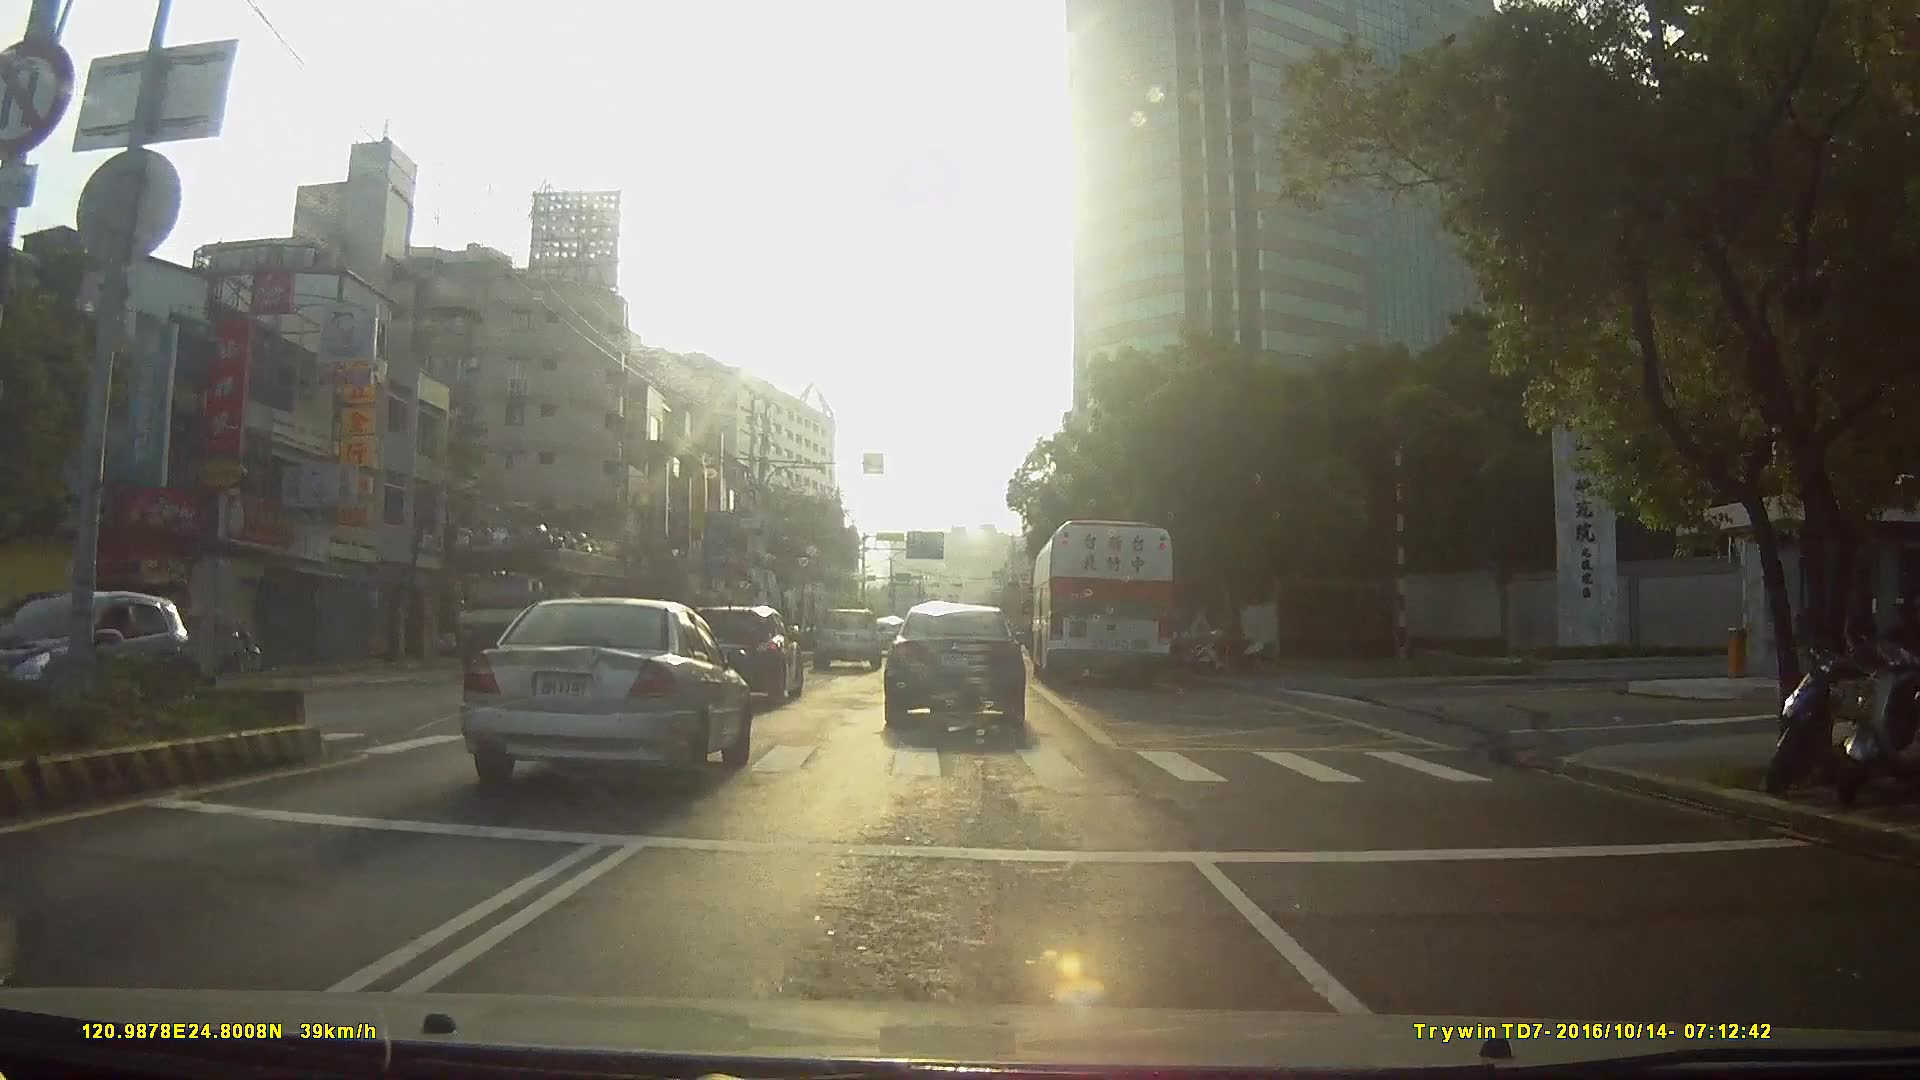vehicle: (448, 596, 750, 798), (444, 512, 633, 684), (1029, 517, 1175, 690), (1, 589, 193, 713), (881, 600, 1026, 732), (680, 607, 802, 709), (811, 608, 882, 673)
